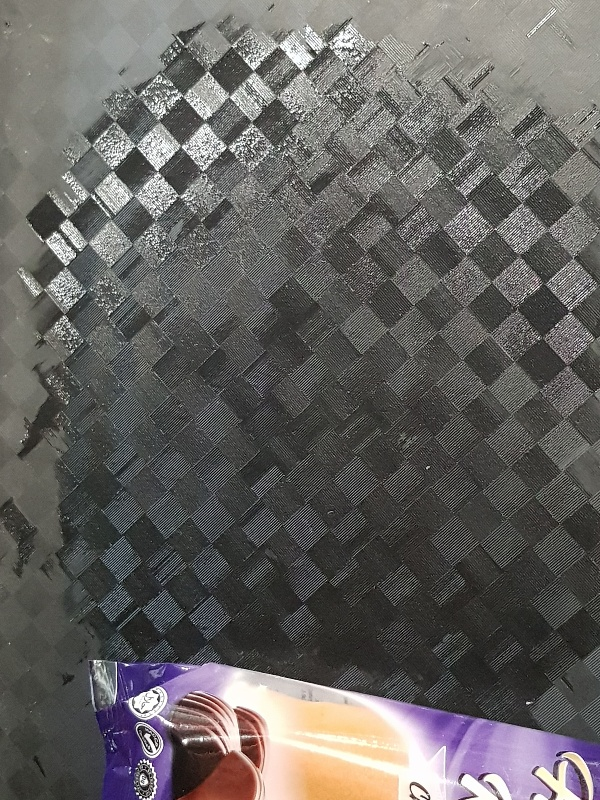Tinges Roll Chocolate: (87, 659, 600, 798)
